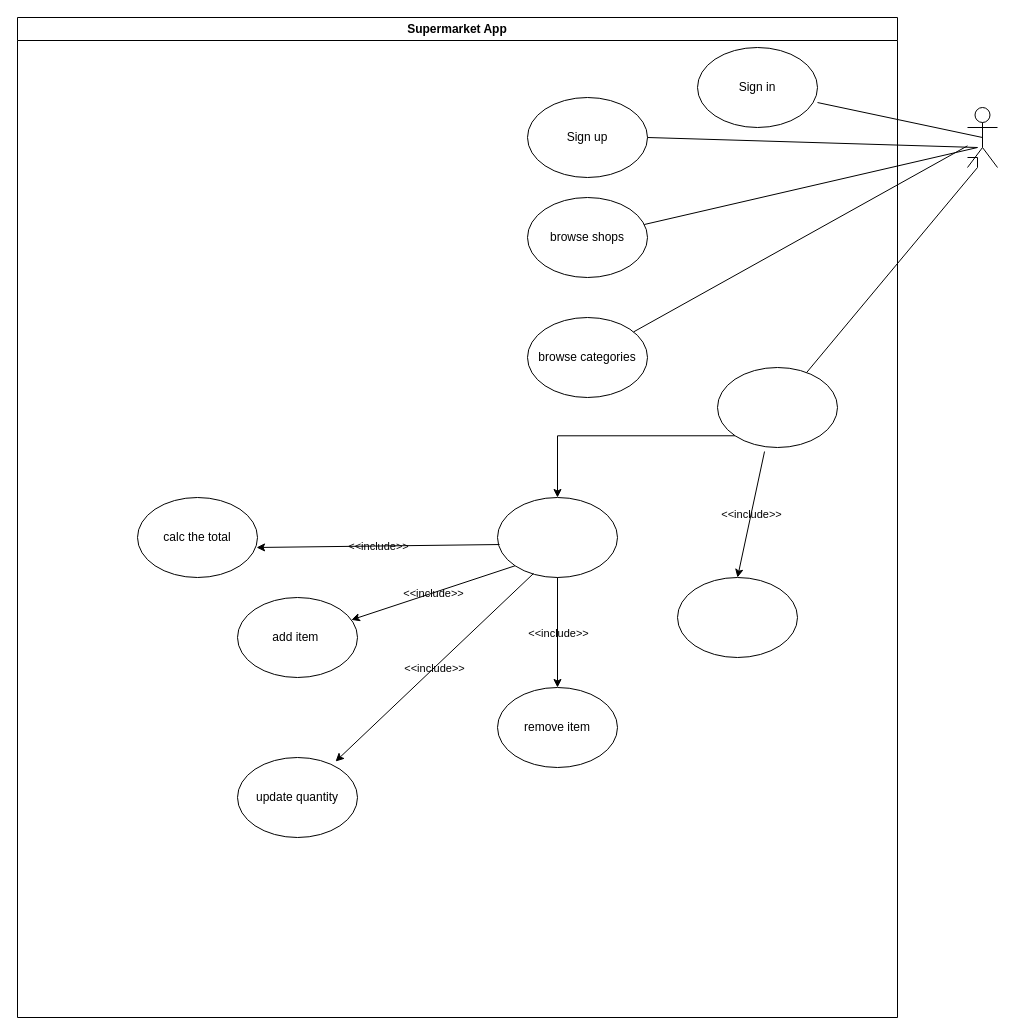
Some shapes in this 1015 by 1035 pixel diagram are drawn without their labels. The centre of each missing label's shape, as x and y in pixels:
"add to cart" belongs at (557,537).
"buy items" belongs at (777,407).
"search products" belongs at (737,617).
"User" belongs at (982,137).
